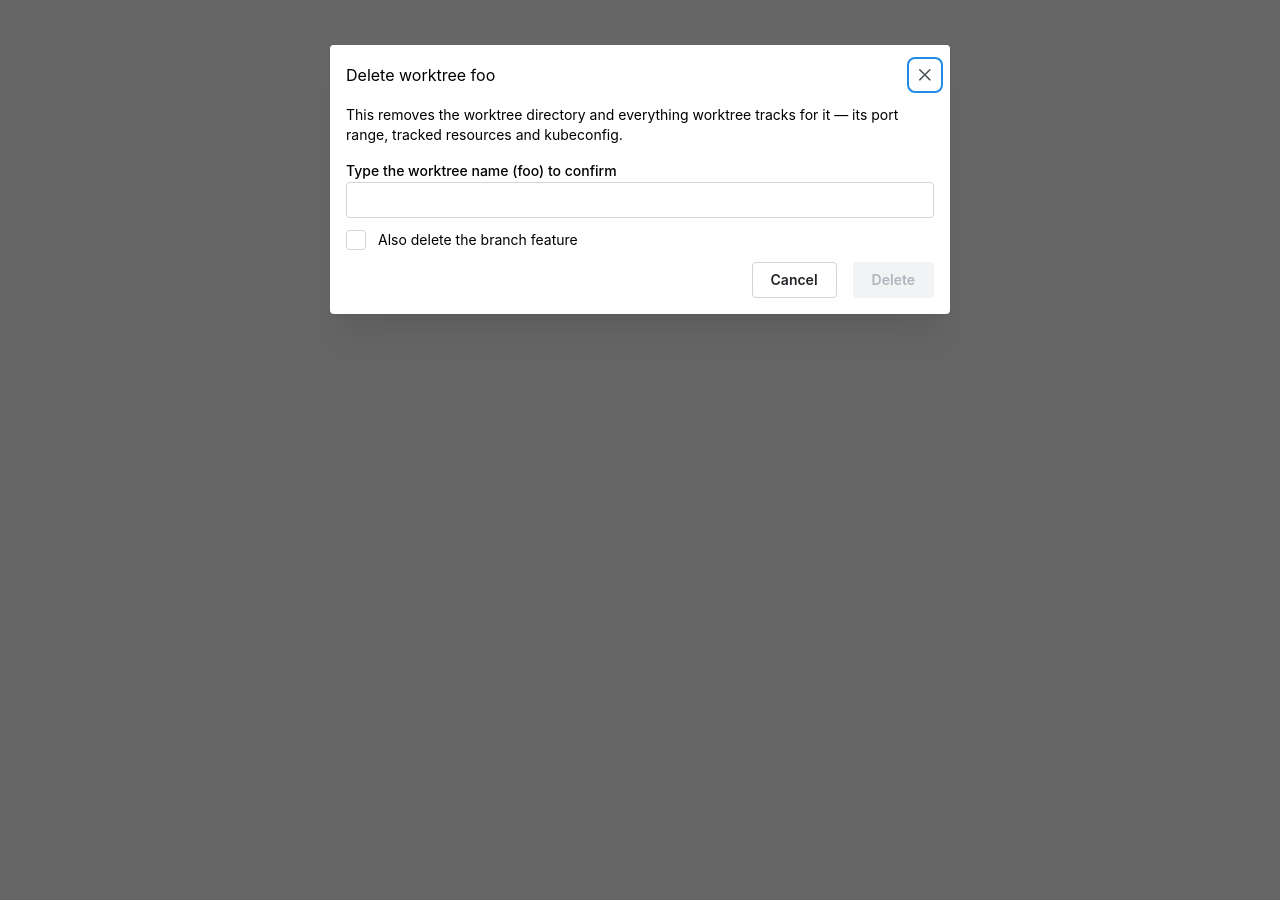
Test case: DeleteWorktreeModal › starts a job and shows its steps as they arrive
Type "foo" into the field labelled "Type the worktree name (foo) to confirm". click: (640, 200)
box: [346,182,934,218]
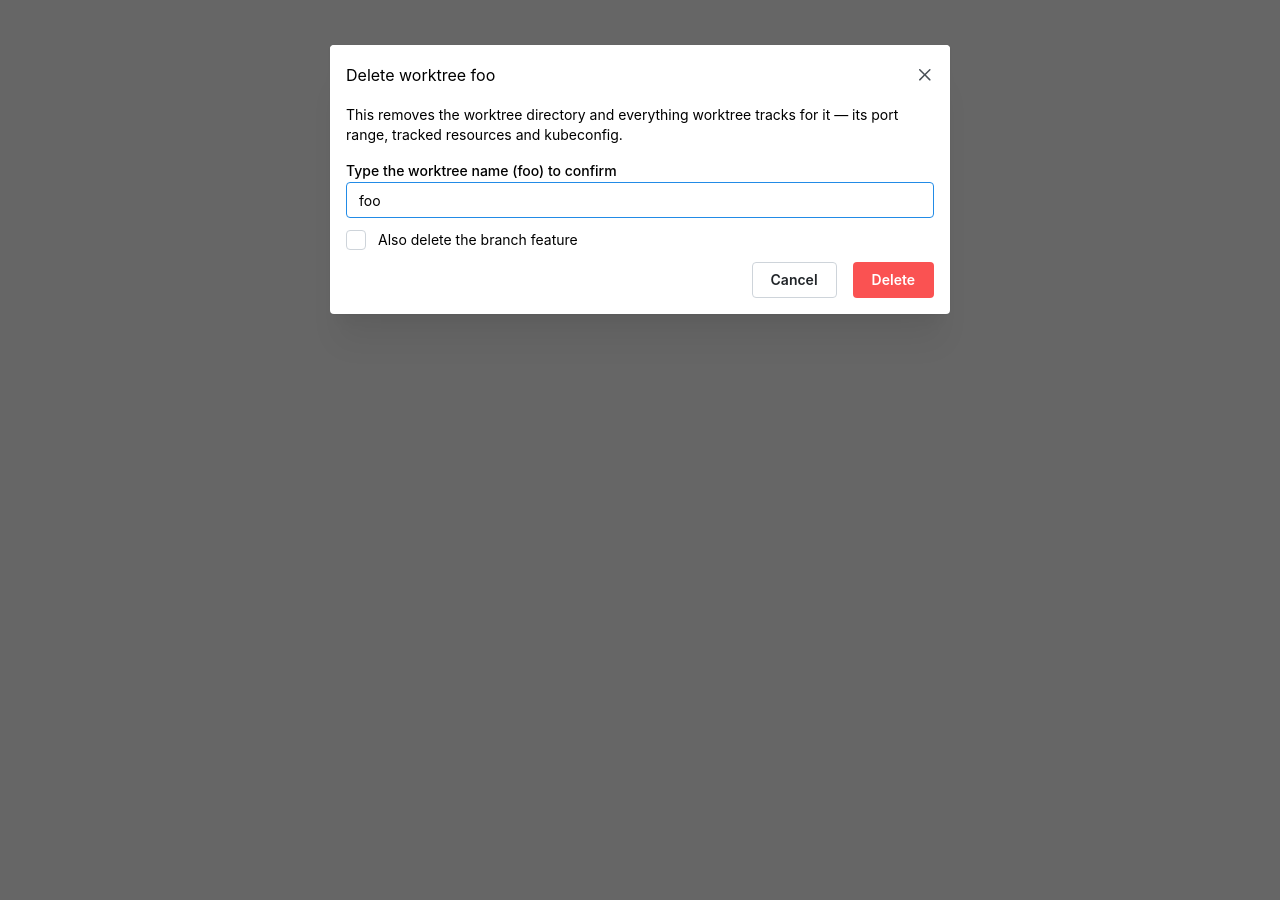
Click the button "Delete". click: (893, 280)
box: [853,262,934,298]
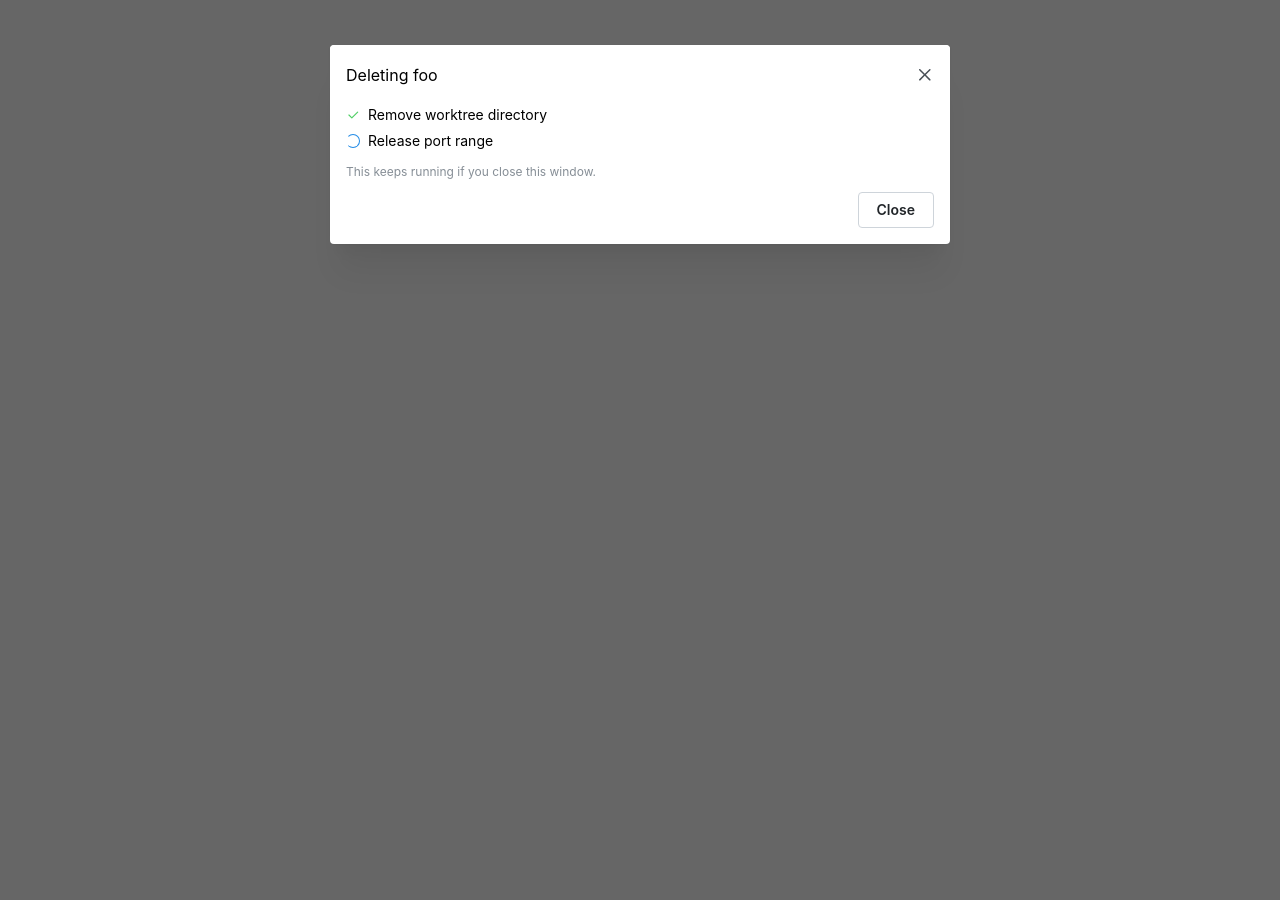
Expected: the heading "Deleting foo" is shown, [346,67,438,83]
Expected: the number of elements named "In progress" is 1, [346,134,360,148]
Expected: the text "Release port range" is shown, [368,131,493,152]
